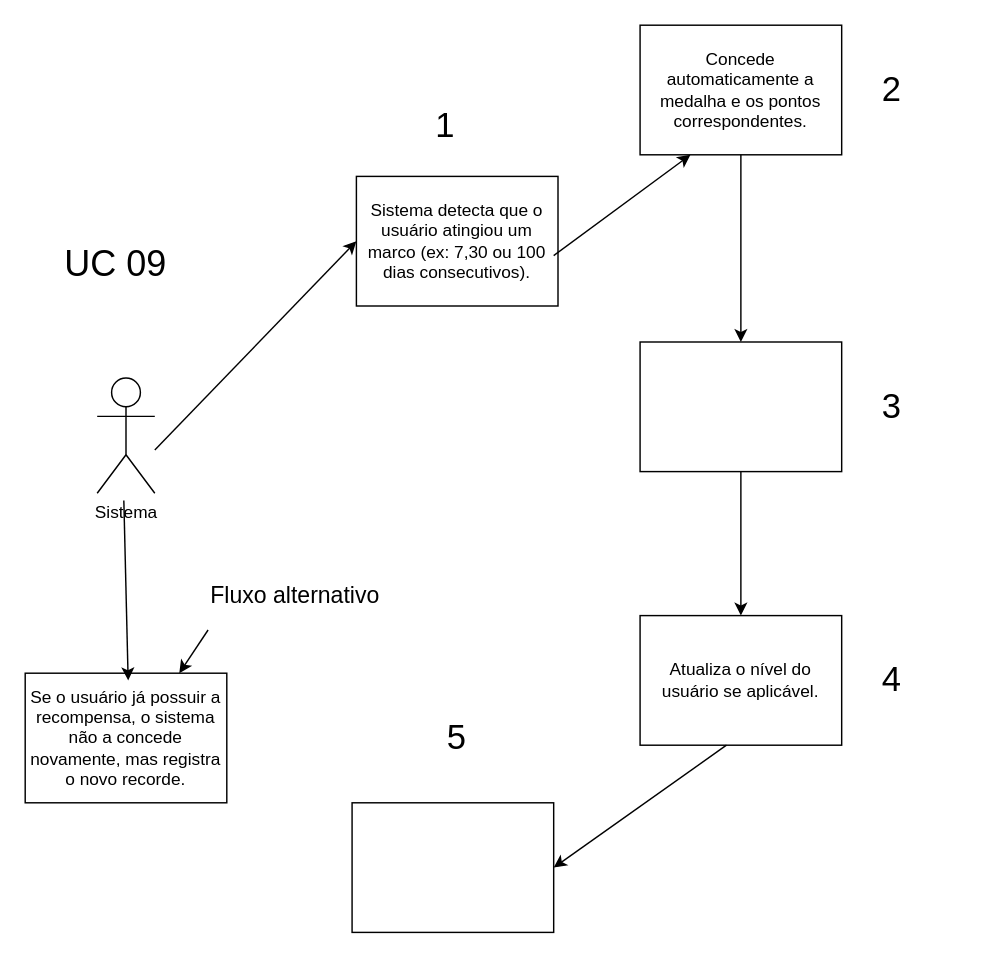
Some shapes in this 982 by 958 pixel diagram are drawn without their labels. The centre of each missing label's shape, as x and y in pixels:
Exibe animação de celebração.: (x=740, y=406)
Recompensa concedida, pontos e nível do usuário atualizados.: (x=452, y=866)
